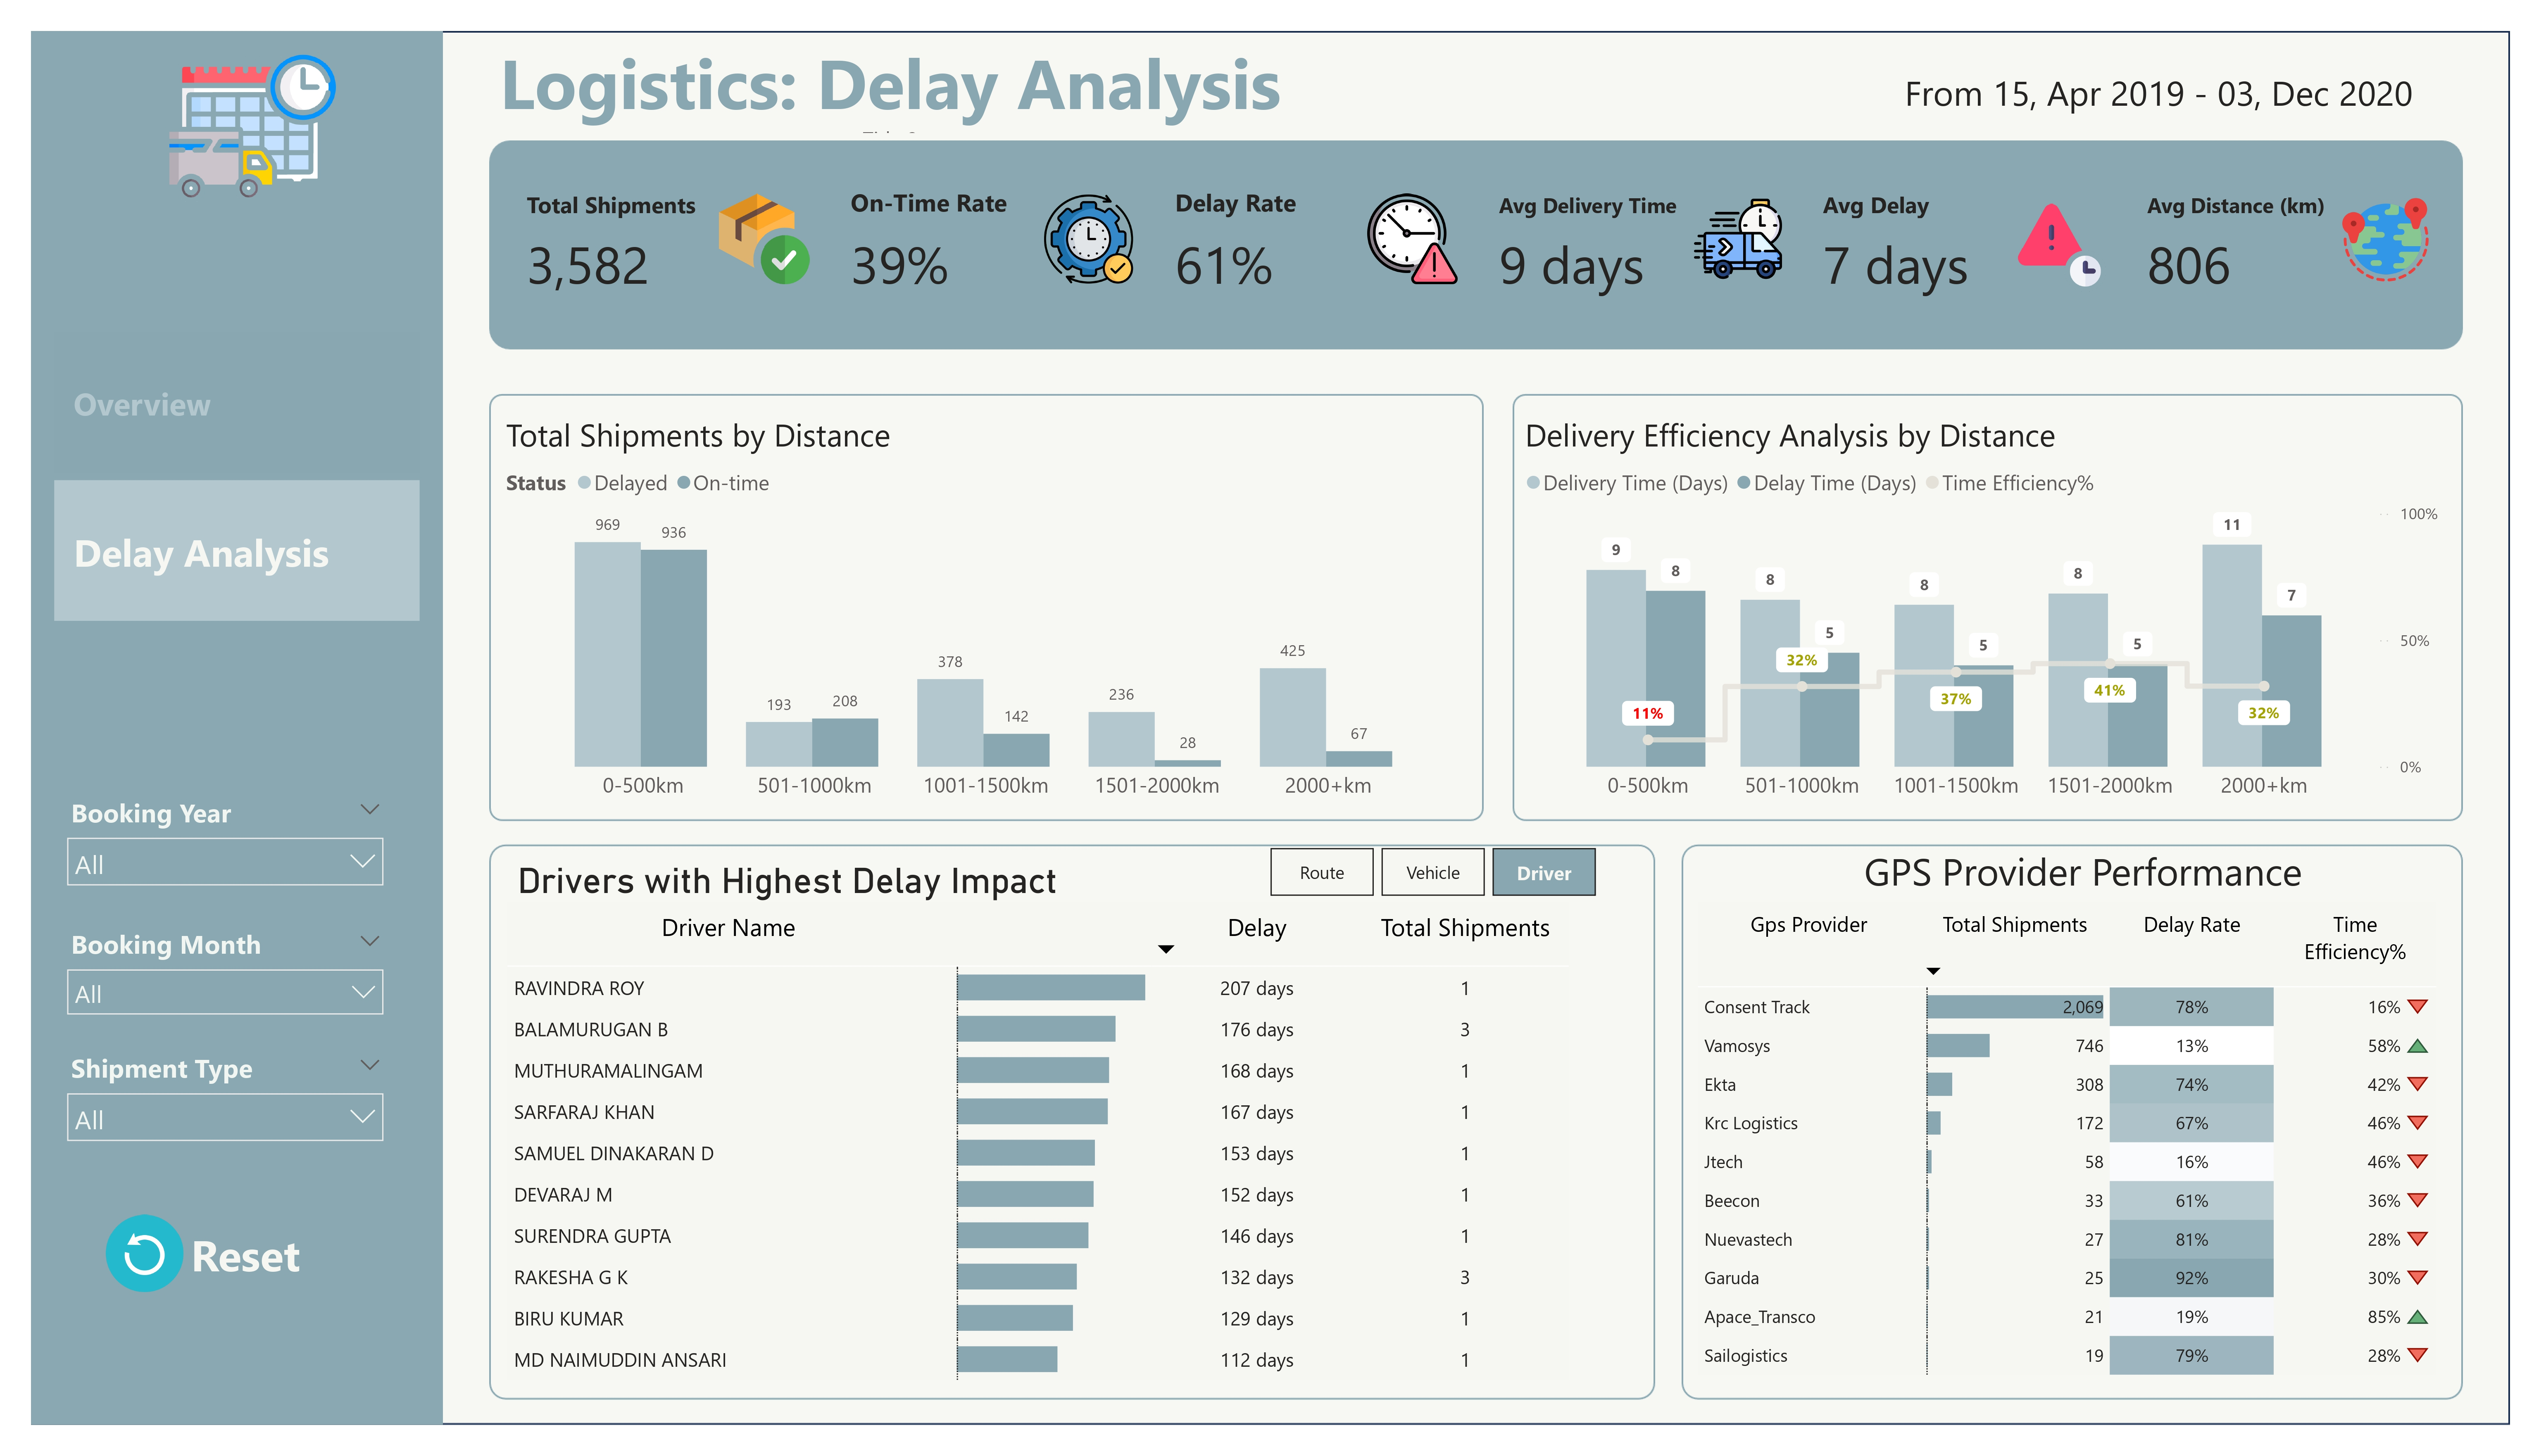

The page's visual inventory and layout, read from the dashboard file:
{"tool":"powerbi","page":{"name":"Delay Analysis","canvas":[1920,1080],"ordinal":1},"visuals":[{"type":"clusteredColumnChart","title":"Total Shipments by Distance","fields":{"Category":["Fact_Trip_Details.Distance Bucket"],"Y":["_Measures.Total Booking"],"Series":["Fact_Trip_Details.Status"]},"box":[363.5,296.5,752.1,309.9],"z":0},{"type":"image","box":[38.5,912,97.1,70.3],"z":0,"group":"g1"},{"type":"lineClusteredColumnComboChart","title":"Delivery Efficiency Analysis by Distance","fields":{"Category":["Fact_Trip_Details.Distance Bucket"],"Y":["_Measures.Avg Delivery Time (Days)","_Measures.Avg Delay Time (Days)"],"Y2":["_Measures.Efficiency%"]},"box":[1152.4,296.5,726.9,309.9],"z":1000},{"type":"actionButton","box":[119.6,911.2,100.5,70.8],"z":1000,"group":"g1"},{"type":"tableEx","title":"GPS","fields":{"Values":["Dim_Tracking.Gps Provider","_Measures.Total Shipments","_Measures.Delay Rate","_Measures.Efficiency%"]},"box":[1284.7,670.3,594,391],"z":2000},{"type":"tableEx","title":"Driver","fields":{"Values":["Dim_Driver.Driver Name","Avg(Fact_Trip_Details.Delay time (Hrs))","_Measures.Avg Delay (Days)","_Measures.Total Shipments"]},"box":[363.5,670,889.4,391.9],"z":3000},{"type":"card","fields":{"Values":["_Measures.Driver Delay Table Label"]},"box":[363.5,629.8,445.5,53.6],"z":4000},{"type":"bookmarkNavigator","box":[959.7,633.1,254.6,36.8],"z":9000},{"type":"slicer","fields":{"Values":["Dim_Booking_Details.Booking Month Name"]},"box":[18.4,688.4,264.6,83.7],"z":10000},{"type":"slicer","fields":{"Values":["Dim_Booking_Details.Booking Year"]},"box":[18.4,586.2,264.6,83.7],"z":11000},{"type":"slicer","fields":{"Values":["Dim_Booking_Details.Shipment Type"]},"box":[18.4,783.9,264.6,82.1],"z":12000},{"type":"card","fields":{"Values":["_Measures.GPS Label"]},"box":[1299.6,633.1,579.1,37.2],"z":13000},{"type":"pageNavigator","box":[18.4,232.8,284.7,224.4],"z":14000},{"type":"image","title":"Brand Icon","box":[39.1,0,264.4,147.1],"z":15000},{"type":"card","fields":{"Values":["_Measures.Title 2"]},"box":[303.5,13,724.3,70.8],"z":16000},{"type":"card","fields":{"Values":["_Measures.Booking Date Range"]},"box":[1418.8,13,458,70.8],"z":17000},{"type":"cardVisual","fields":{"Data":["_Measures.Total Booking","_Measures.On-Time Rate","_Measures.Delay Rate","_Measures.Avg Delivery (Days)","_Measures.Avg Delay (Days)","_Measures.Avg Dist (km)"]},"box":[366.8,83.7,1509.1,159.1],"z":18000},{"type":"group","id":"g1","title":"Group 1","box":[38.5,911.2,181.7,71.1],"z":19000}]}

Visuals, with their boxes on the page's 1920x1080 design canvas (x1, y1, x2, y2). These are canvas units, not pixel positions in the 2541x1456 screenshot, which may show the page scaled, cropped or inside an application window:
"Total Shipments by Distance" clusteredColumnChart: Rect(364, 296, 1116, 606)
image: Rect(38, 912, 136, 982)
"Delivery Efficiency Analysis by Distance" lineClusteredColumnComboChart: Rect(1152, 296, 1879, 606)
actionButton: Rect(120, 911, 220, 982)
"GPS" tableEx: Rect(1285, 670, 1879, 1061)
"Driver" tableEx: Rect(364, 670, 1253, 1062)
card - _Measures.Driver Delay Table Label: Rect(364, 630, 809, 683)
bookmarkNavigator: Rect(960, 633, 1214, 670)
slicer - Dim_Booking_Details.Booking Month Name: Rect(18, 688, 283, 772)
slicer - Dim_Booking_Details.Booking Year: Rect(18, 586, 283, 670)
slicer - Dim_Booking_Details.Shipment Type: Rect(18, 784, 283, 866)
card - _Measures.GPS Label: Rect(1300, 633, 1879, 670)
pageNavigator: Rect(18, 233, 303, 457)
"Brand Icon" image: Rect(39, 0, 304, 147)
card - _Measures.Title 2: Rect(304, 13, 1028, 84)
card - _Measures.Booking Date Range: Rect(1419, 13, 1877, 84)
cardVisual - _Measures.Total Booking x _Measures.On-Time Rate: Rect(367, 84, 1876, 243)
"Group 1" group: Rect(38, 911, 220, 982)
